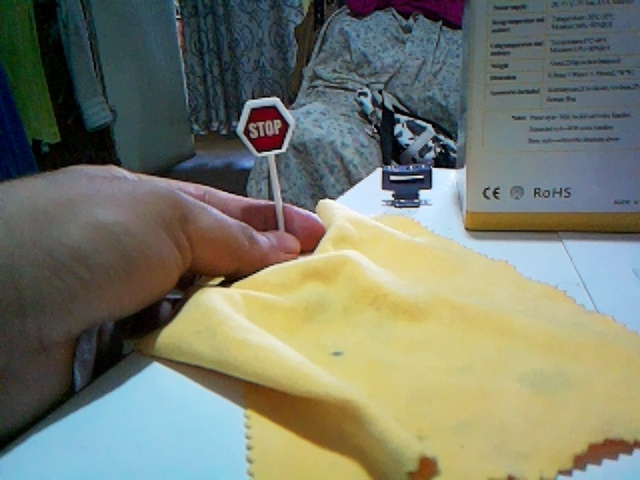stop_sign: (236, 97, 294, 154)
